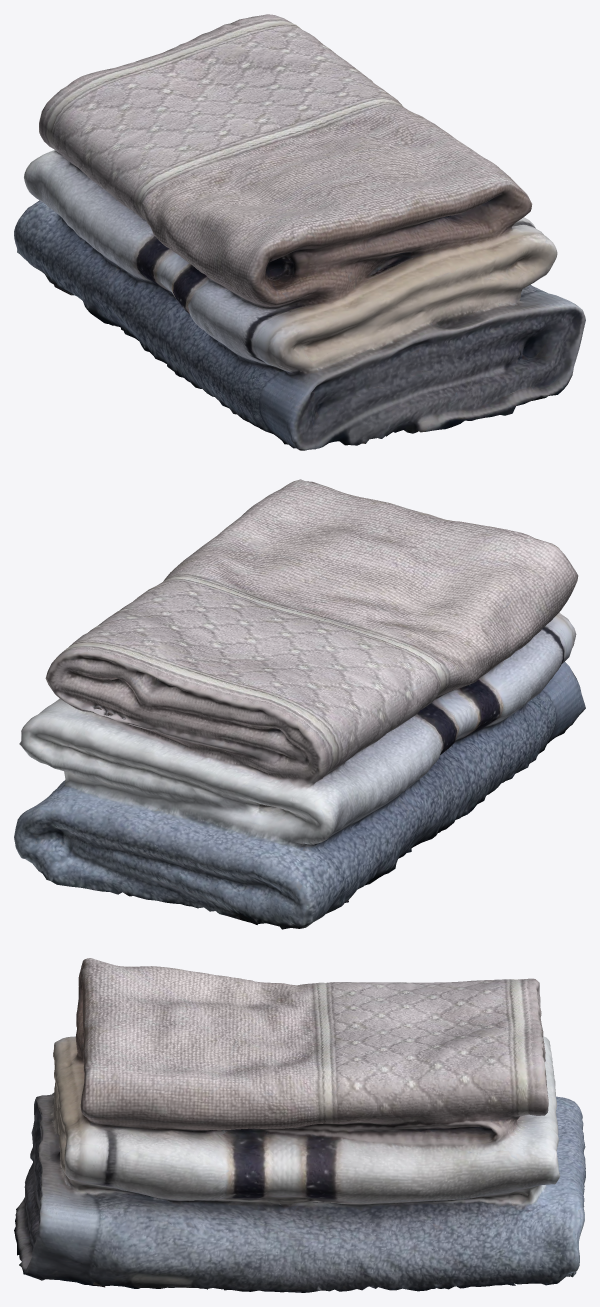
Rendered from ramie-folded-fabric-scan.glb.
3 views of the same model, one above another, from view 1: azimuth 30°, elevation 25°; view 2: azimuth 150°, elevation 25°; view 3: azimuth 270°, elevation 25° (orthographic). The views are drawn at different scales.
Parts seen in each view (by area): view 1: Towels; view 2: Towels; view 3: Towels.
Part boxes in pixels (box(x1,y1,x2,y2)): Towels: box(14, 14, 585, 450); Towels: box(14, 479, 585, 929); Towels: box(14, 958, 585, 1292).
Size of the model in its own units: 0.2265 by 0.1436 by 0.3475.
2 materials, 2 textured.
